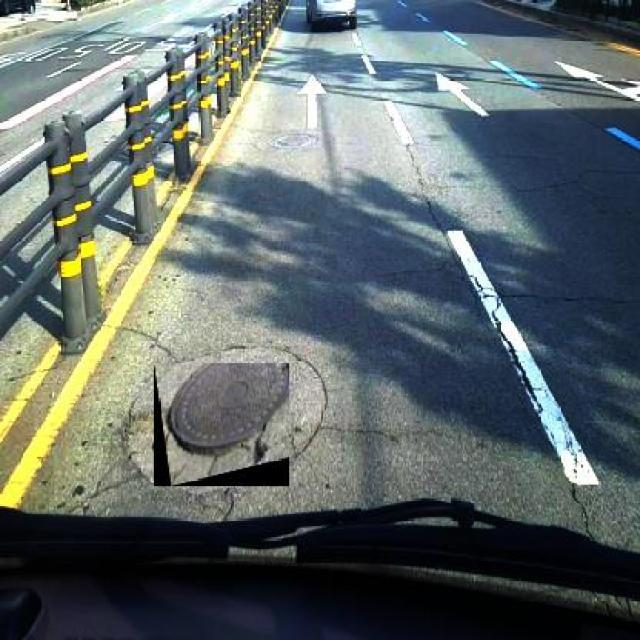Manhole: (153, 362, 290, 487), (268, 132, 322, 150)
